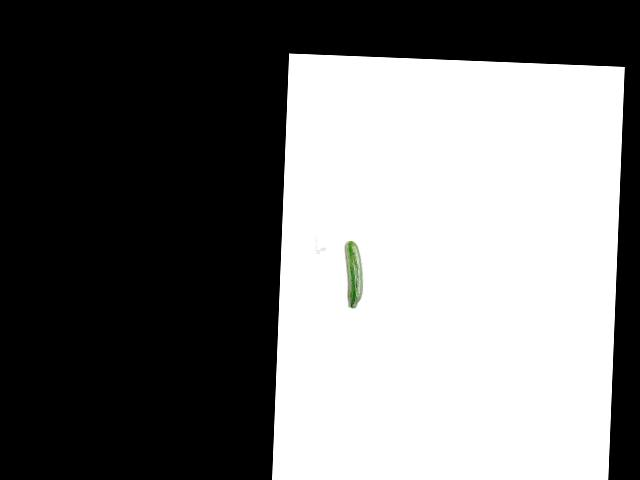cucumber: (342, 239, 364, 308)
